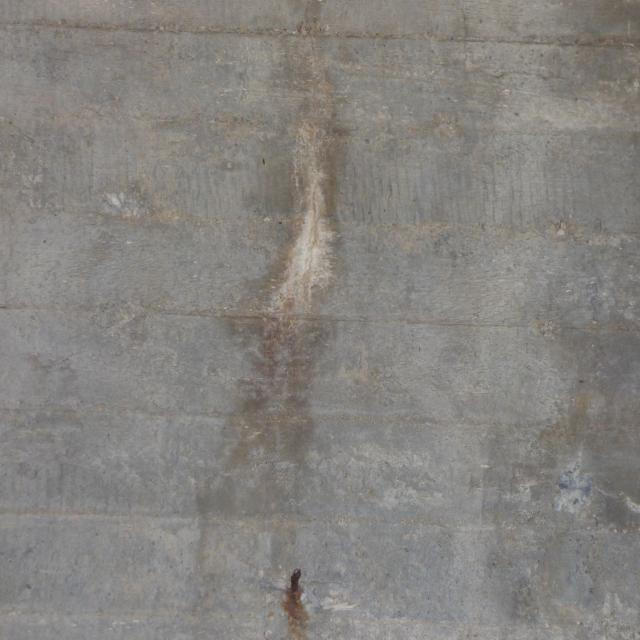corrosion: (276, 556, 327, 640)
